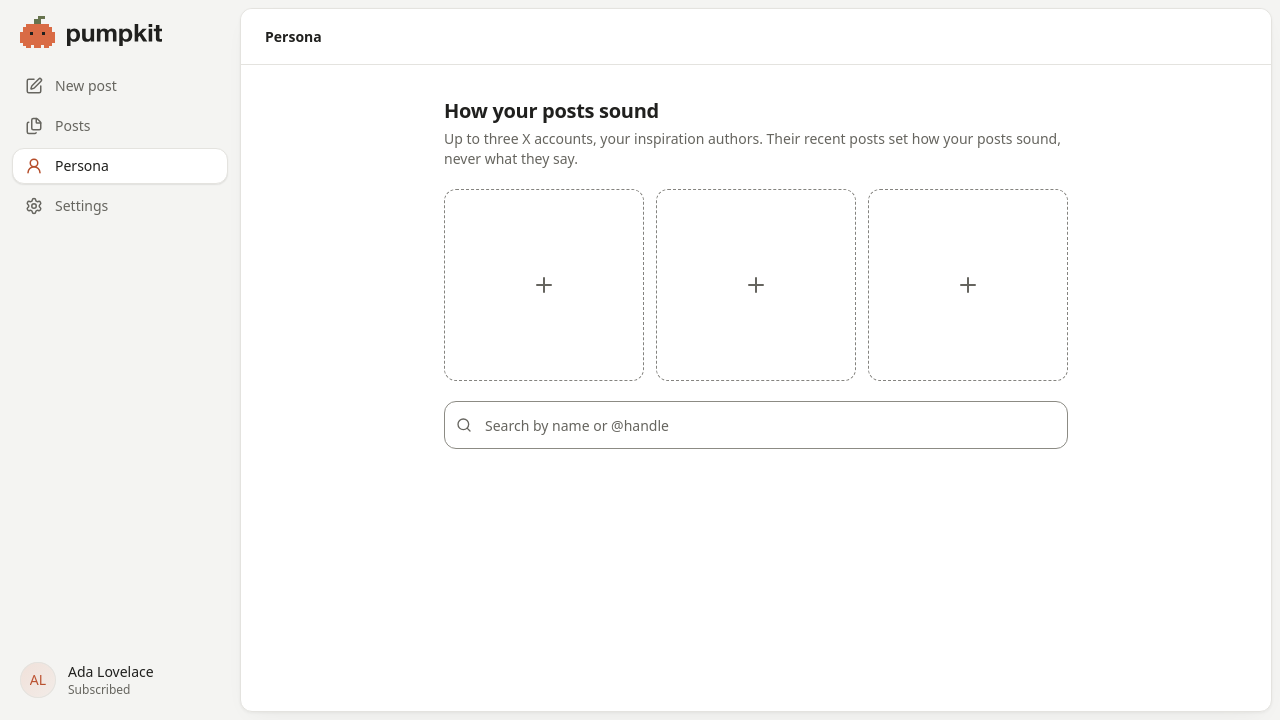
Scenario: The signed-in shell › Sidebar › links to New post, Posts, Persona and Settings, marking the page the User is on
Click the link "Posts" at x=58, y=126, box x1=25 y1=116 x2=90 y2=135
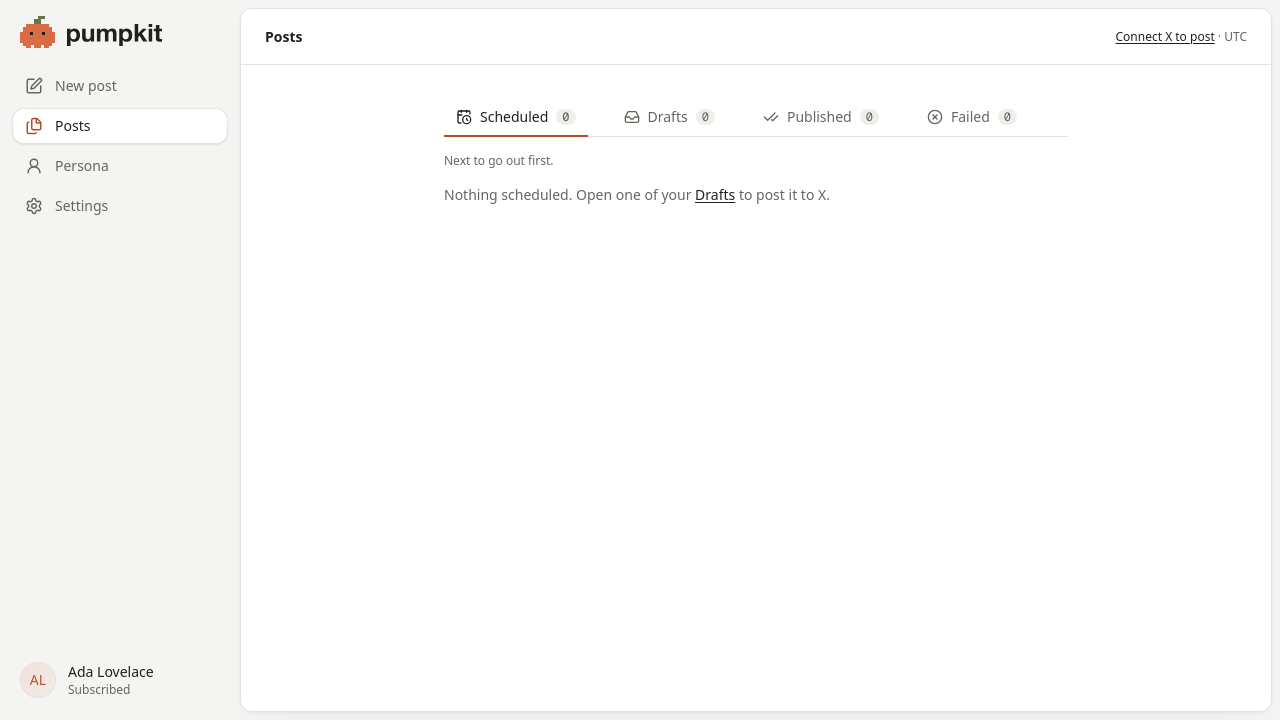
Check: the heading "Posts" is shown, box x1=265 y1=26 x2=302 y2=46
